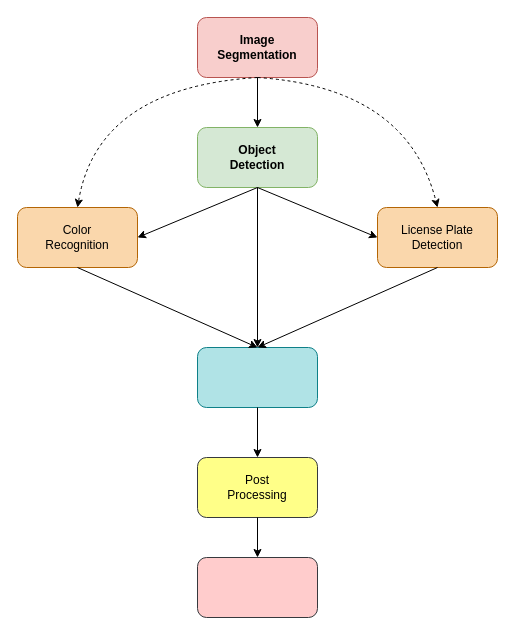
This 515x635 diagram has some shape labels left out. Each missing label, with the centre of its shape:
"Object Tracking" belongs at [257,377].
"Visualization" belongs at [257,587].
